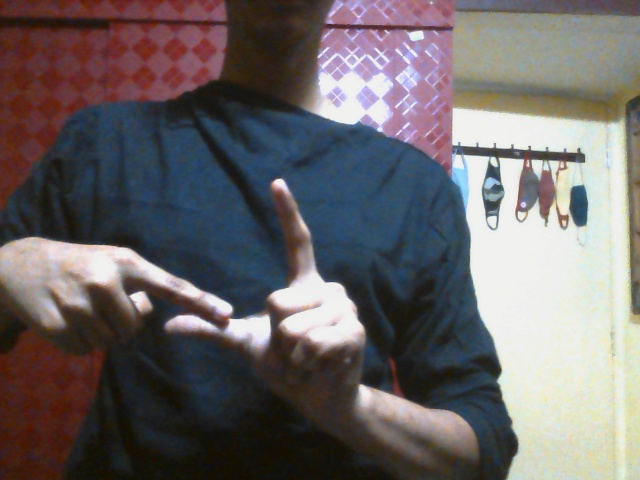J: (30, 177, 367, 389)
